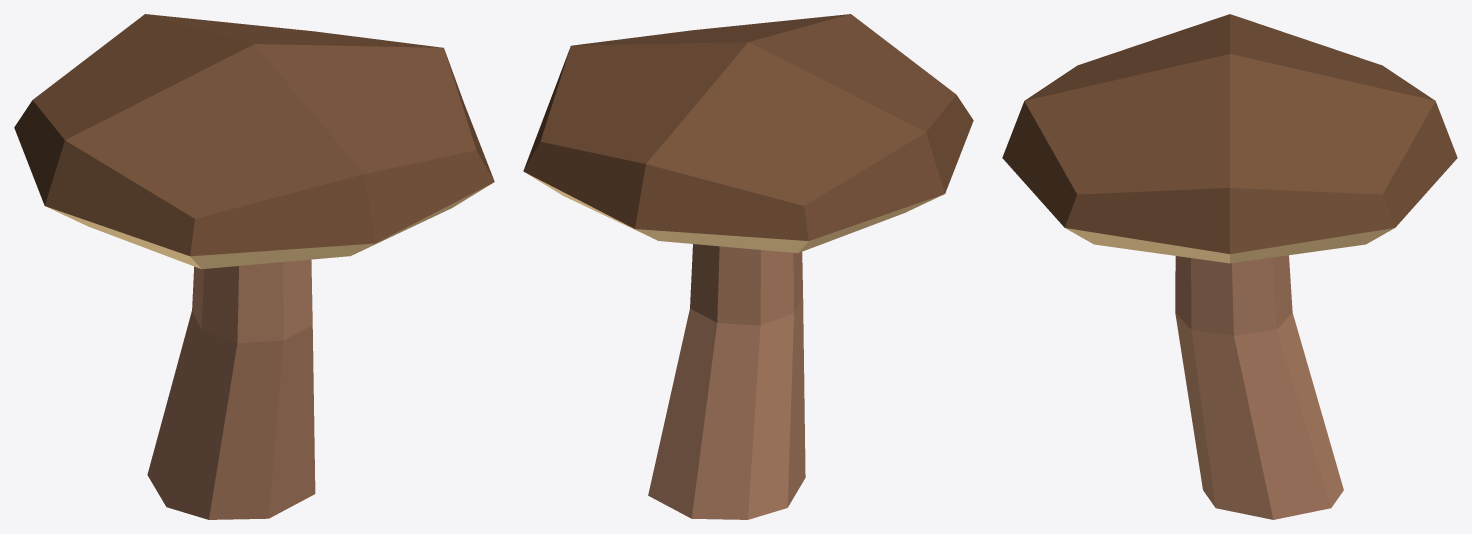
Rendered from Ruskotatti.fbx.
3 renders of one model, left to right at view 1: azimuth 30°, elevation 25°; view 2: azimuth 150°, elevation 25°; view 3: azimuth 270°, elevation 25°, orthographic. The views are drawn at different scales.
Visible parts, largest first — view 1: Cap.005, Leg.005; view 2: Cap.005, Leg.005; view 3: Cap.005, Leg.005.
Part boxes in pixels (box(x1,y1,x2,y2)): Cap.005: box(14, 14, 494, 269); Leg.005: box(147, 259, 315, 519); Cap.005: box(523, 14, 973, 253); Leg.005: box(648, 244, 805, 519); Cap.005: box(1002, 14, 1457, 263); Leg.005: box(1175, 255, 1343, 519).
Size of the model in its own units: 18.26 by 20.17 by 18.26.
